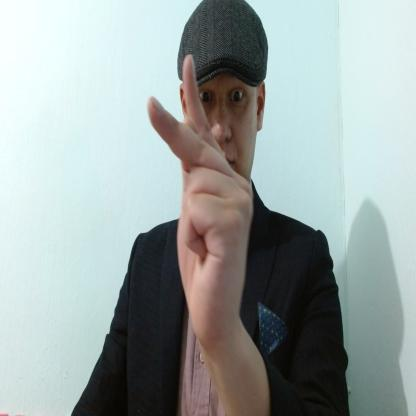P: (145, 52, 254, 343)
